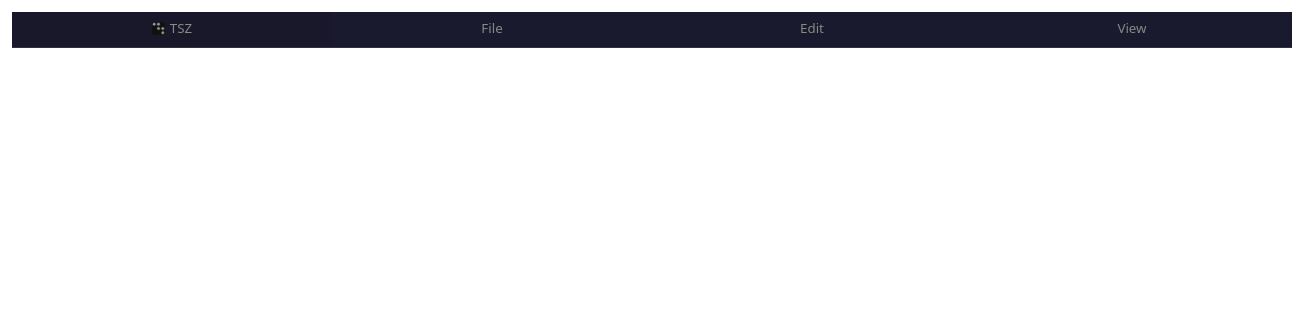
Test: zoom slider reflects the cellSize prop
Step 1. Click the button "View" → [1132, 30], box [972,12,1292,47]
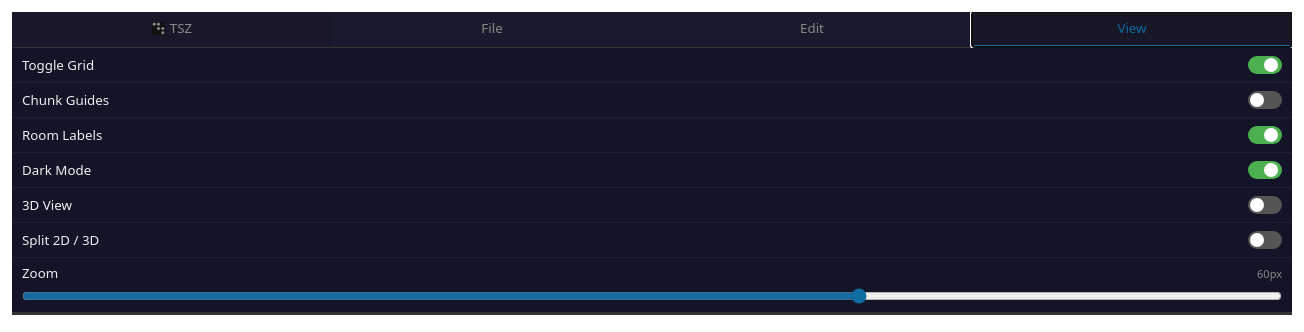
Result: the slider holds "60" at [22,288,1282,304]
